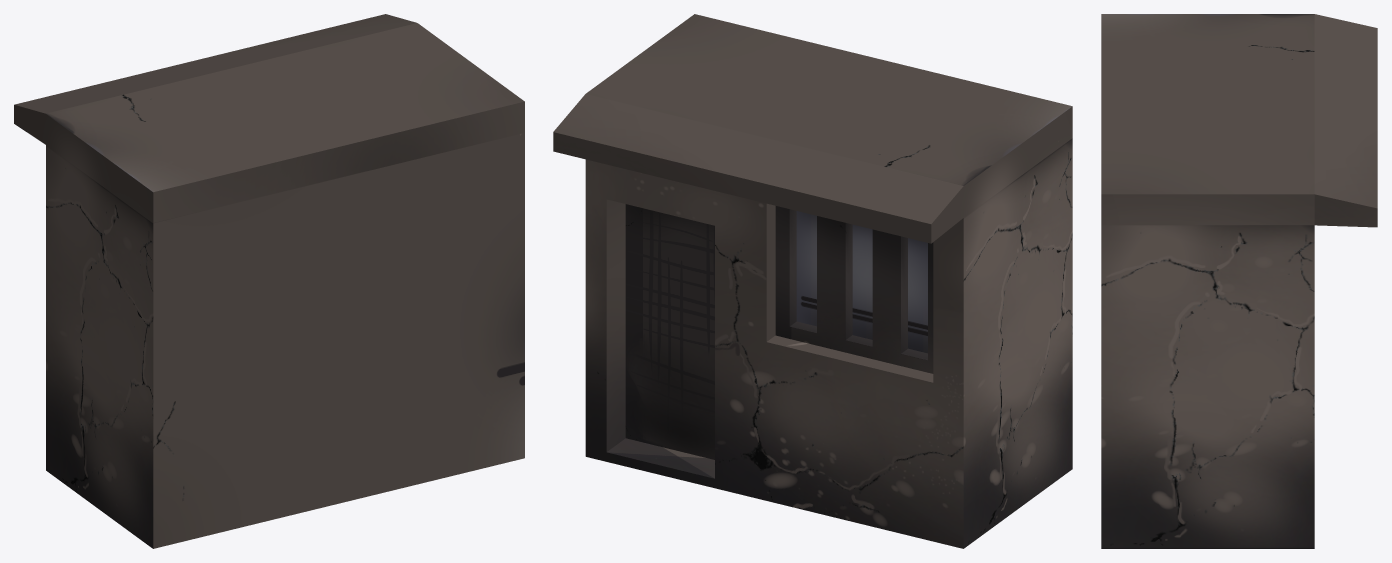
The model's file is House3.fbx.
3 renders of one model, left to right at view 1: azimuth 30°, elevation 25°; view 2: azimuth 150°, elevation 25°; view 3: azimuth 270°, elevation 25°, orthographic. The views are drawn at different scales.
Parts seen in each view (by area): view 1: Cube; view 2: Cube; view 3: Cube.
Part boxes in pixels (x1,y1,x2,y2): Cube: (14,14,524,548); Cube: (553,14,1072,548); Cube: (1101,14,1377,548).
Size of the model in its own units: 1041 by 954 by 674.
